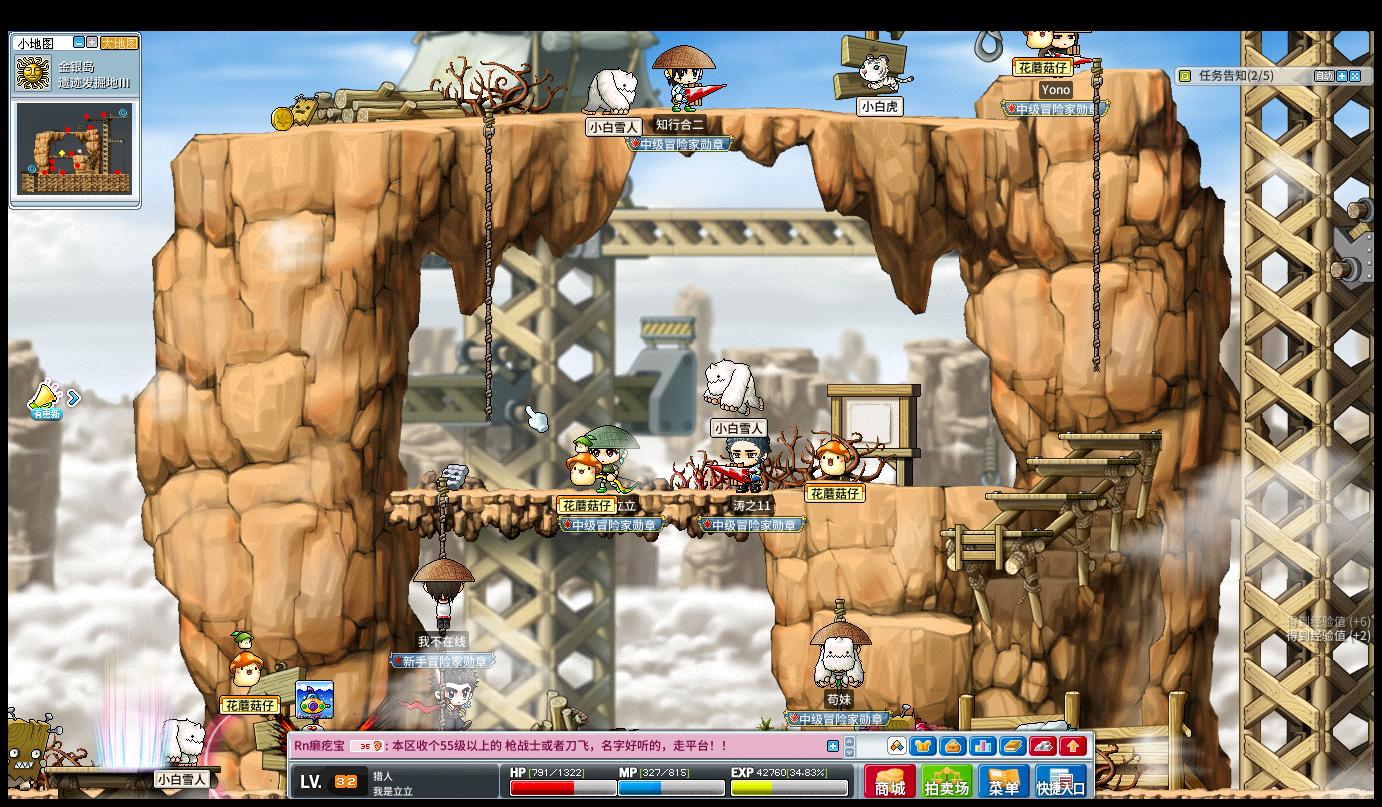floor: (173, 103, 1073, 137), (385, 487, 769, 498), (866, 613, 973, 634), (1057, 429, 1162, 442), (870, 484, 1015, 493), (874, 482, 1018, 491), (986, 489, 1098, 499), (1021, 456, 1134, 464), (940, 528, 1053, 536), (988, 492, 1097, 500)
monster: (4, 713, 60, 791)
rope: (1089, 61, 1102, 368), (481, 107, 493, 418), (433, 478, 448, 559)
